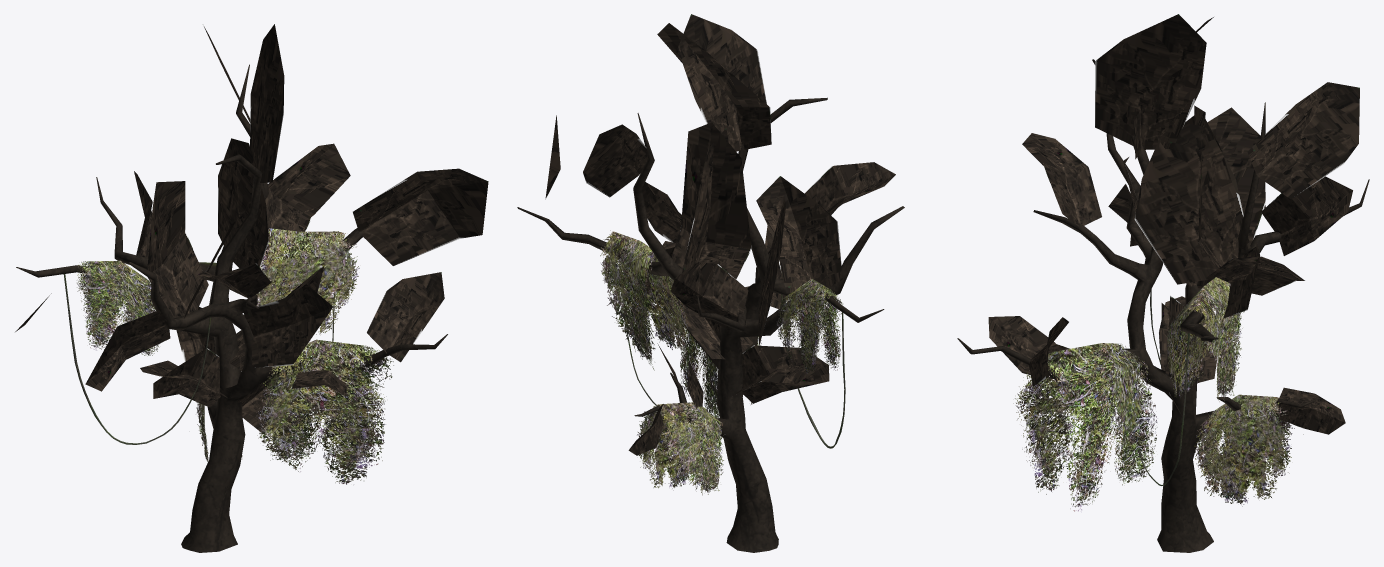
File: Tree 2 v2 - LOD 0.fbx
3 renders of one model, left to right at view 1: azimuth 30°, elevation 25°; view 2: azimuth 150°, elevation 25°; view 3: azimuth 270°, elevation 25°, orthographic. The views are drawn at different scales.
Parts seen in each view (by area): view 1: Branches 2 v2 - LOD 0, Hanging Moss 2 v2 - LOD 0, Bark 2 v2 - LOD 0, Vines 2 v2 - LOD 0; view 2: Branches 2 v2 - LOD 0, Hanging Moss 2 v2 - LOD 0, Bark 2 v2 - LOD 0, Vines 2 v2 - LOD 0; view 3: Branches 2 v2 - LOD 0, Hanging Moss 2 v2 - LOD 0, Bark 2 v2 - LOD 0, Vines 2 v2 - LOD 0.
Boxes of the visible parts, <box> form: Branches 2 v2 - LOD 0: <box>15,24,488,433</box>; Hanging Moss 2 v2 - LOD 0: <box>77,228,393,484</box>; Bark 2 v2 - LOD 0: <box>16,64,447,552</box>; Vines 2 v2 - LOD 0: <box>63,274,334,444</box>; Branches 2 v2 - LOD 0: <box>545,14,895,455</box>; Hanging Moss 2 v2 - LOD 0: <box>600,230,842,495</box>; Bark 2 v2 - LOD 0: <box>517,97,904,552</box>; Vines 2 v2 - LOD 0: <box>623,264,845,448</box>; Branches 2 v2 - LOD 0: <box>988,14,1359,434</box>; Hanging Moss 2 v2 - LOD 0: <box>1013,277,1303,511</box>; Bark 2 v2 - LOD 0: <box>957,59,1369,552</box>; Vines 2 v2 - LOD 0: <box>1122,289,1222,485</box>.
Bounding box in the file's own units: 22.33 × 26.97 × 17.95.
